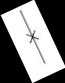t20: (21, 17, 40, 52)
